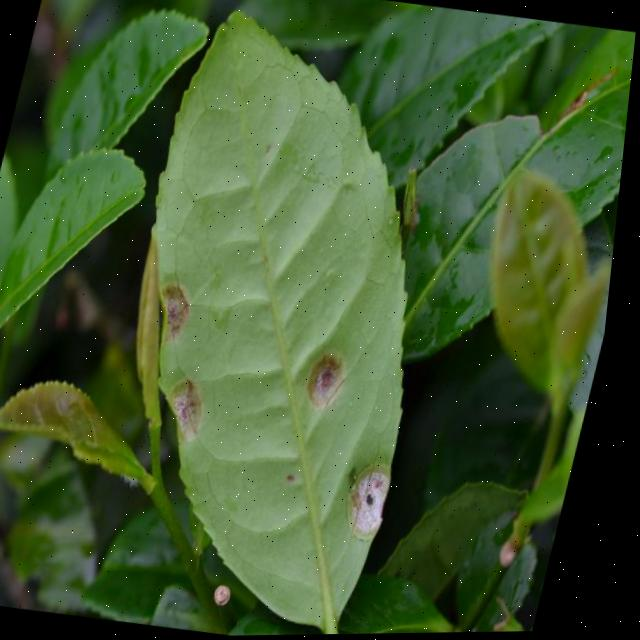Tea cake: (352, 457, 413, 543), (164, 368, 226, 445), (310, 346, 369, 415), (151, 274, 207, 343)
